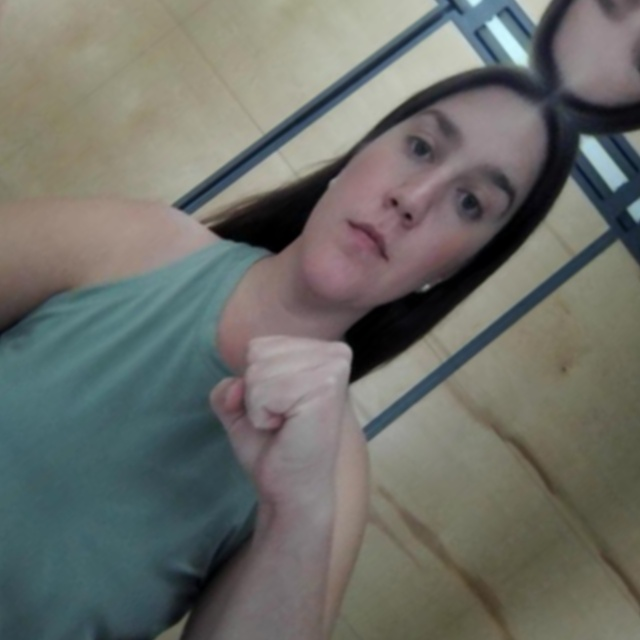Rock: (118, 226, 455, 577)
